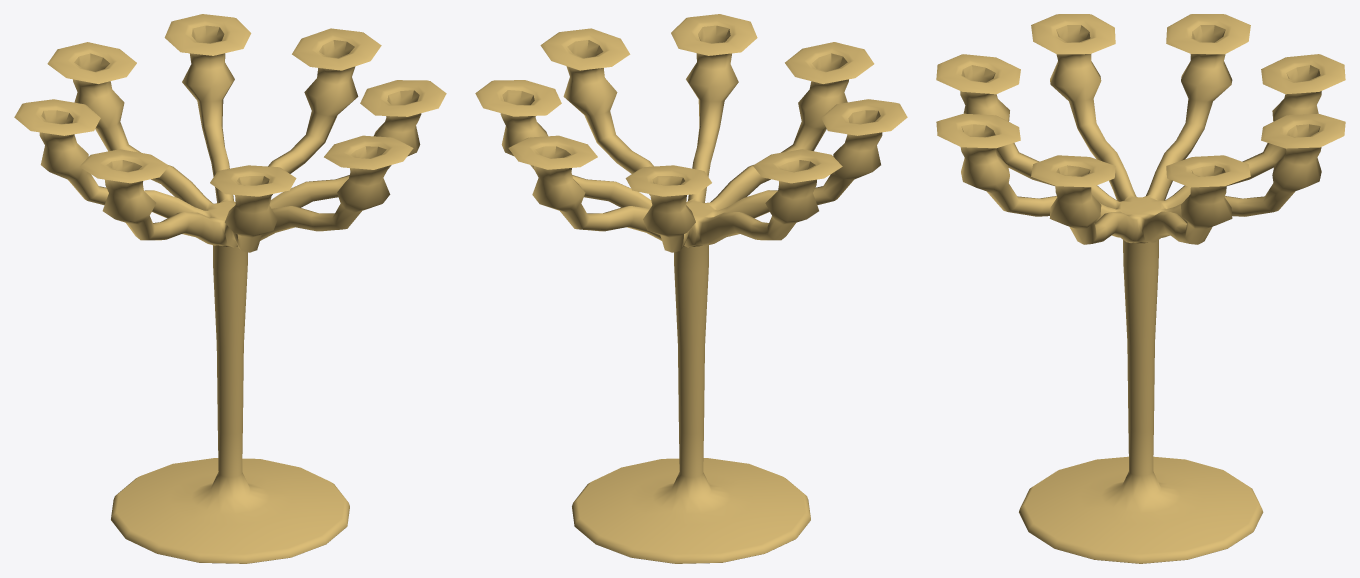
Rendered from candleHolder.fbx.
3 views of the same model, side by side, from view 1: azimuth 30°, elevation 25°; view 2: azimuth 150°, elevation 25°; view 3: azimuth 270°, elevation 25° (orthographic).
Parts seen in each view (by area): view 1: geo_candleHolder; view 2: geo_candleHolder; view 3: geo_candleHolder.
Boxes of the visible parts, x1,y1,x2,y2 form: geo_candleHolder: [14, 14, 446, 563]; geo_candleHolder: [475, 14, 907, 563]; geo_candleHolder: [936, 14, 1345, 563].
Size of the model in its own units: 108 by 121 by 108.
